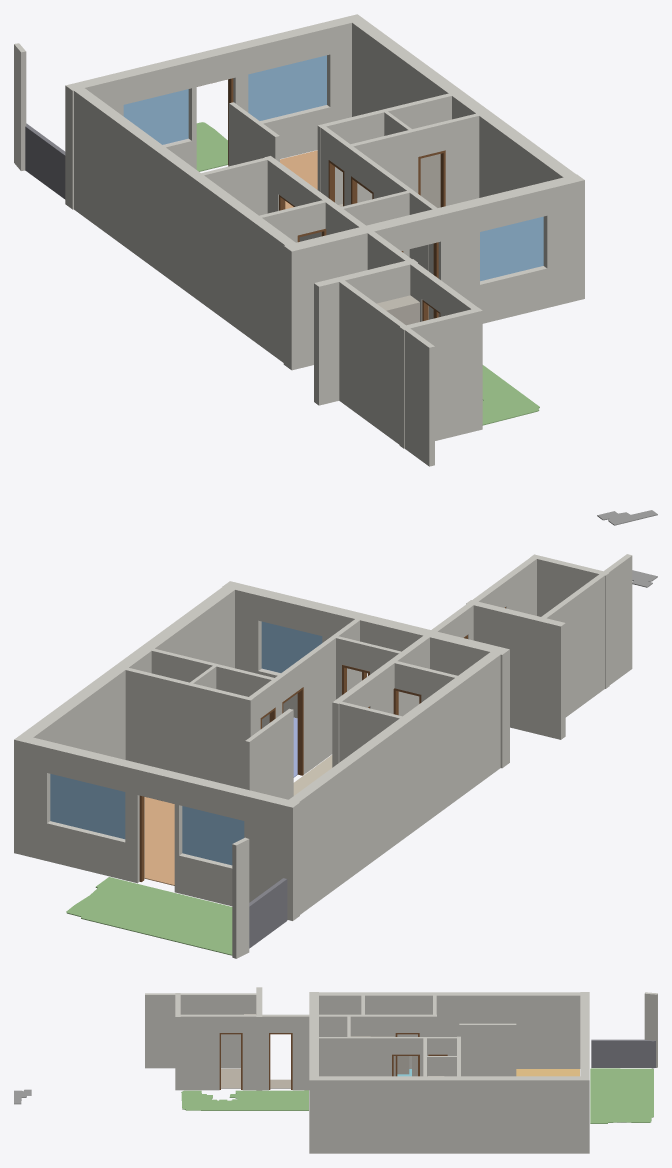
The picture shows the model from 3 angles, top to bottom: view 1: azimuth 30°, elevation 25°; view 2: azimuth 150°, elevation 25°; view 3: azimuth 270°, elevation 25°; orthographic projection. The views are drawn at different scales.
Parts seen in each view (by area): view 1: walls, window_3, window_0, window_1, railings, floor_11_Outdoor, floor_10_Outdoor, furniture_0_closet, floor_1_Living_Room, furniture_2_closet; view 2: walls, floor_10_Outdoor, window_3, window_1, floor_1_Living_Room, window_0, railings, door_6; view 3: walls, floor_10_Outdoor, floor_11_Outdoor, railings, floor_0_Kitchen, floor_9_Storage, door_5, door_11.
Boxes of the visible parts, left/top/right/bottom form: walls: left=14, top=14, right=584, bottom=466; window_3: left=248, top=55, right=326, bottom=120; window_0: left=480, top=216, right=543, bottom=281; window_1: left=123, top=89, right=188, bottom=144; railings: left=25, top=123, right=65, bottom=199; floor_11_Outdoor: left=482, top=365, right=539, bottom=425; floor_10_Outdoor: left=196, top=122, right=227, bottom=171; furniture_0_closet: left=420, top=154, right=440, bottom=207; floor_1_Living_Room: left=280, top=150, right=317, bottom=208; furniture_2_closet: left=377, top=295, right=419, bottom=325; walls: left=14, top=554, right=632, bottom=958; floor_10_Outdoor: left=66, top=877, right=232, bottom=955; window_3: left=50, top=774, right=125, bottom=839; window_1: left=182, top=806, right=244, bottom=865; floor_1_Living_Room: left=144, top=797, right=174, bottom=885; window_0: left=261, top=621, right=322, bottom=672; railings: left=249, top=878, right=287, bottom=948; door_6: left=282, top=687, right=303, bottom=775; walls: left=145, top=987, right=657, bottom=1153; floor_10_Outdoor: left=590, top=1068, right=653, bottom=1123; floor_11_Outdoor: left=181, top=1090, right=308, bottom=1110; railings: left=591, top=1039, right=655, bottom=1068; floor_0_Kitchen: left=516, top=1069, right=579, bottom=1076; floor_9_Storage: left=221, top=1068, right=240, bottom=1088; door_5: left=219, top=1033, right=242, bottom=1089; door_11: left=269, top=1033, right=292, bottom=1089.
Size of the model in its own units: 7.34 by 2.72 by 21.46.
